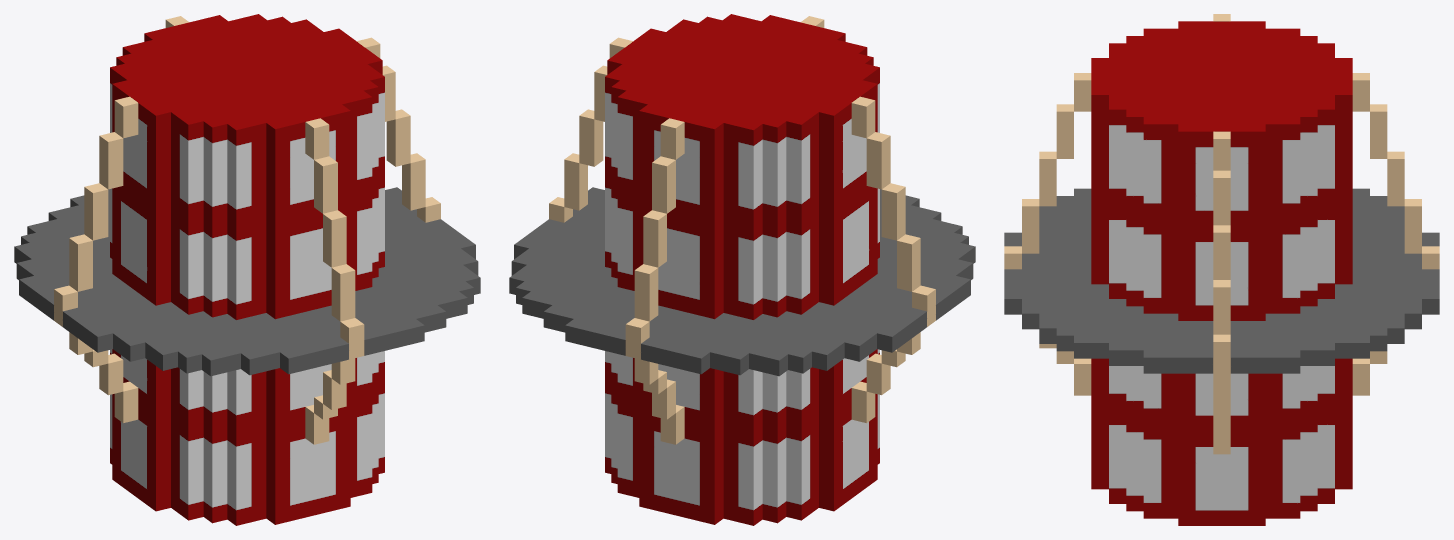
File: ninethModel(Red).fbx
The picture shows the model from 3 angles, left to right: view 1: azimuth 30°, elevation 25°; view 2: azimuth 150°, elevation 25°; view 3: azimuth 270°, elevation 25°; orthographic projection.
Parts seen in each view (by area): view 1: Cylinder; view 2: Cylinder; view 3: Cylinder.
Part boxes in pixels (x1,y1,x2,y2): Cylinder: (14,14,480,525); Cylinder: (509,14,975,525); Cylinder: (1004,14,1439,525).
Size of the model in its own units: 25 by 25 by 25.
1 material, 1 textured.
